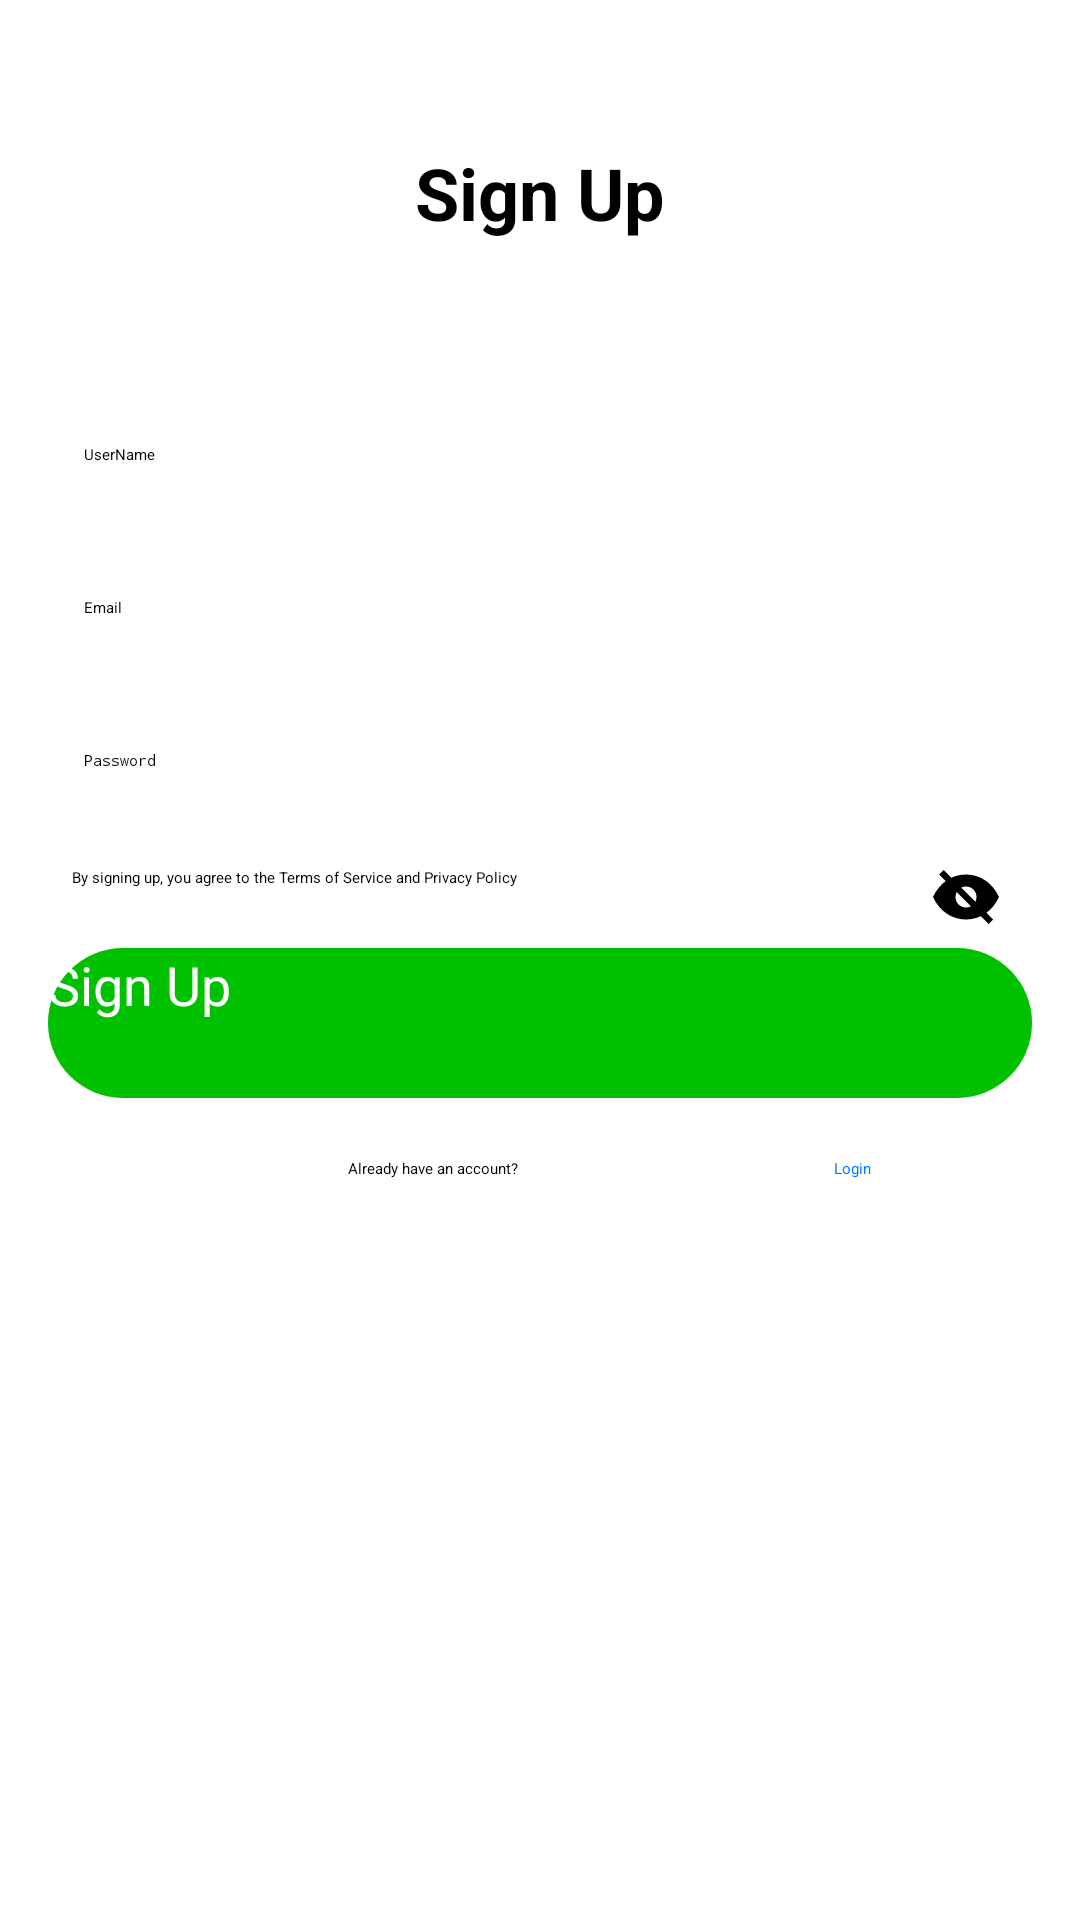

Icon bounding boxes for this 1080px×1920px phone screenshot, format {"left": x1, "top": y1, "right": x2, "bottom": y2}:
eye closed: {"left": 933, "top": 870, "right": 999, "bottom": 924}
